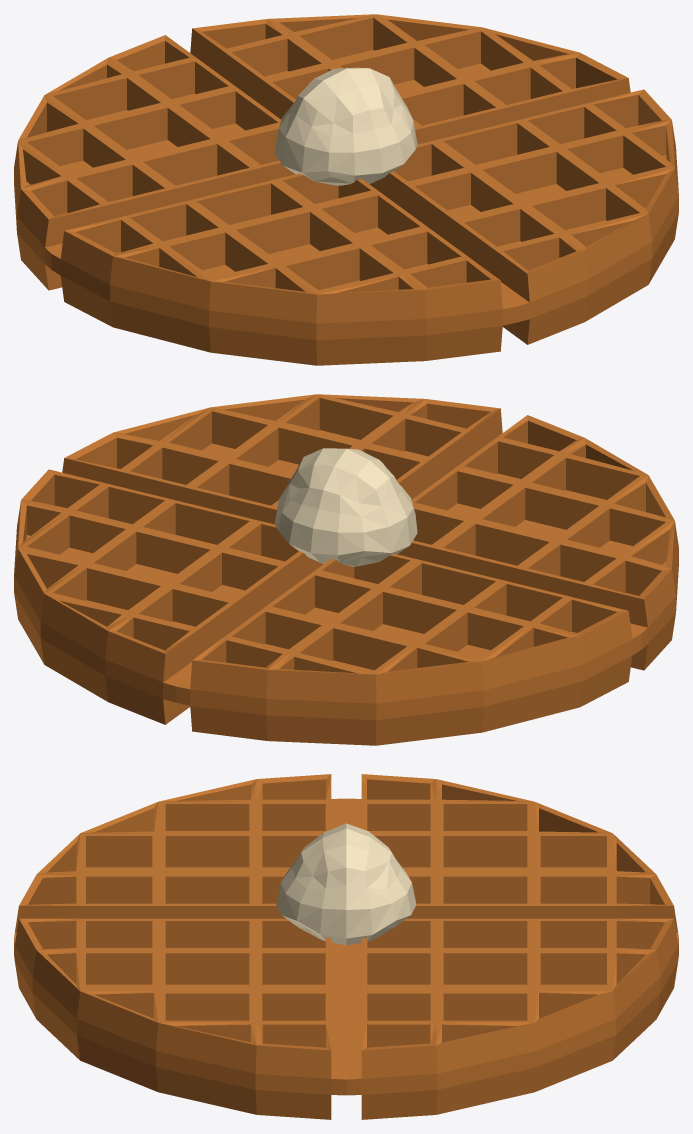
3 views of the same model, one above another, from view 1: azimuth 30°, elevation 25°; view 2: azimuth 150°, elevation 25°; view 3: azimuth 270°, elevation 25° (orthographic). The views are drawn at different scales.
Parts seen in each view (by area): view 1: Node; view 2: Node; view 3: Node.
Part boxes in pixels (x1=…): Node: x1=14, y1=14, x2=678, y2=365; Node: x1=14, y1=394, x2=678, y2=745; Node: x1=14, y1=774, x2=678, y2=1119.
Size of the model in its own units: 1.88 by 0.4788 by 1.88.
